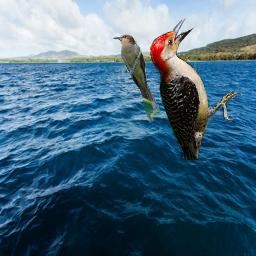Cuckoo: (113, 34, 160, 123)
Woodpecker: (150, 18, 243, 160)
